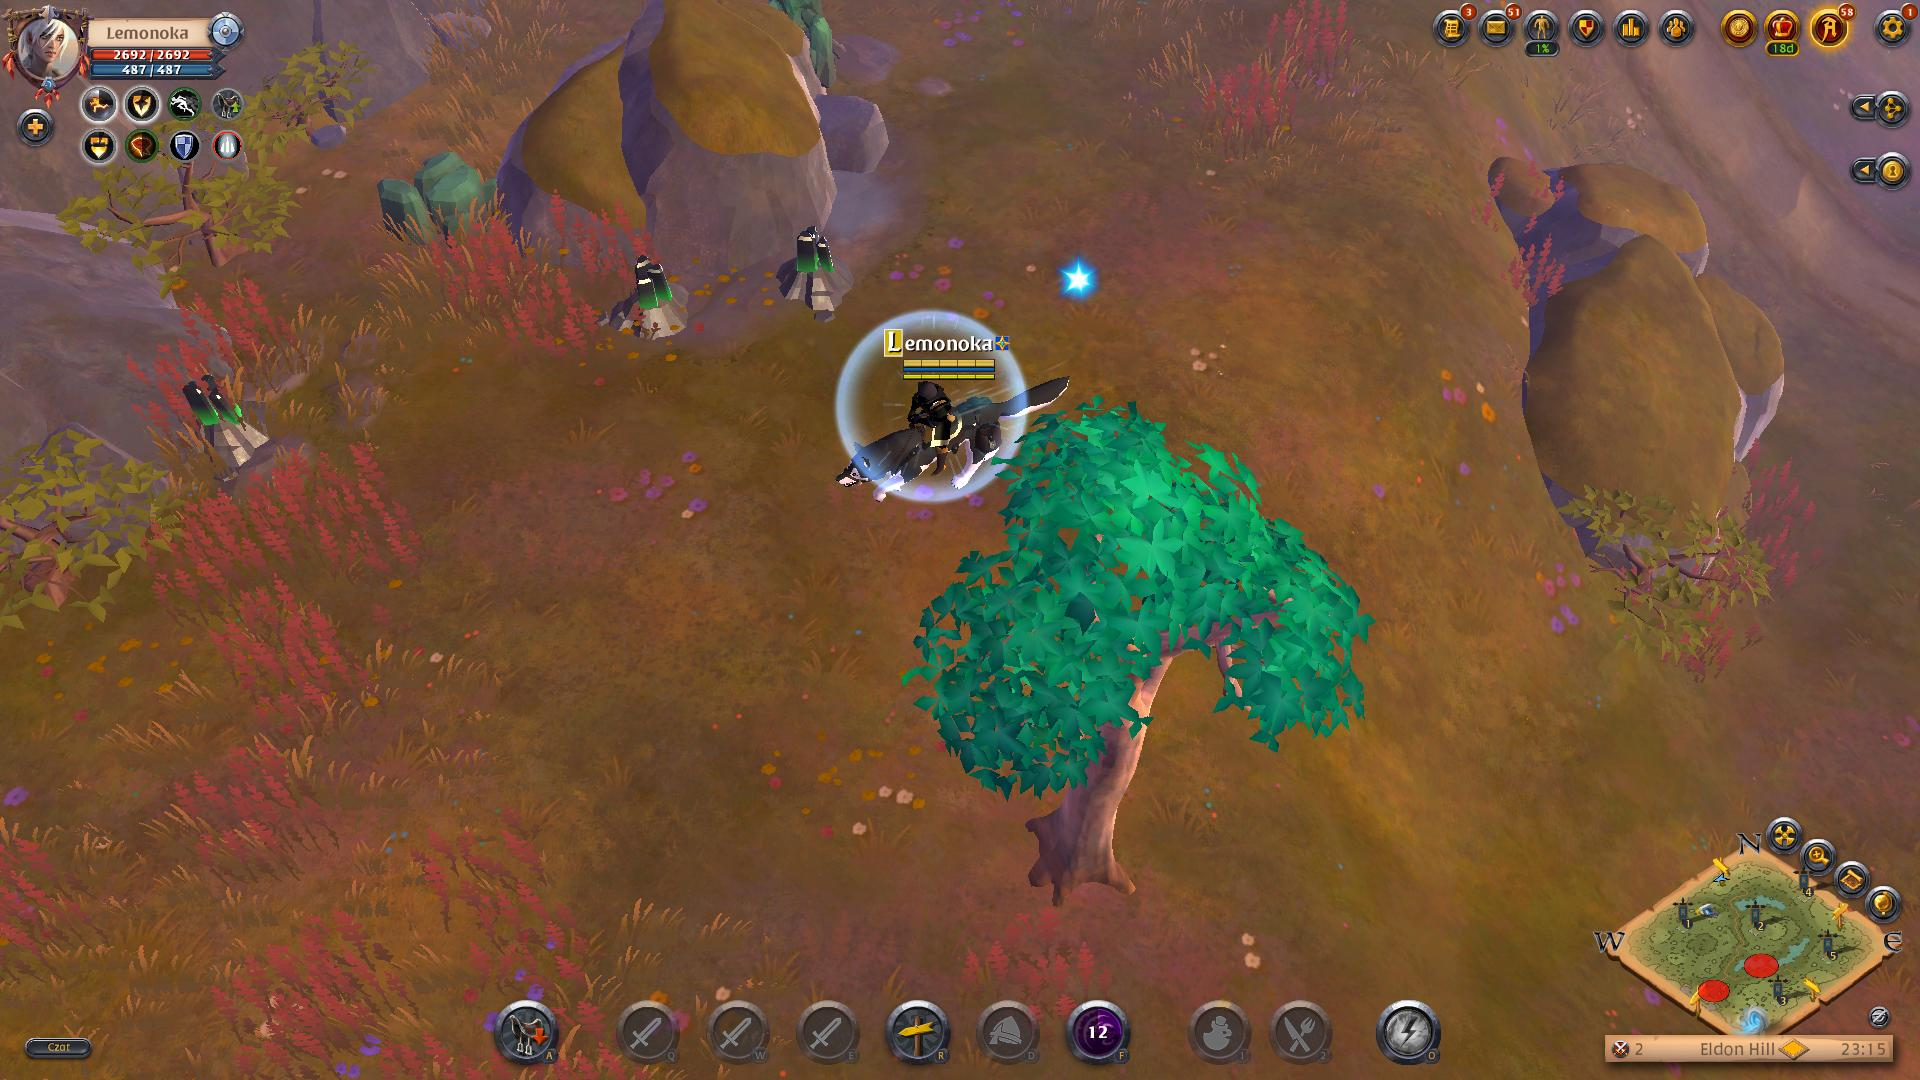ore tier 3: (173, 368, 273, 472), (601, 248, 699, 348), (775, 225, 855, 320)
rock tier 3: (371, 148, 520, 247)
wood tier 3: (907, 415, 1360, 802)
